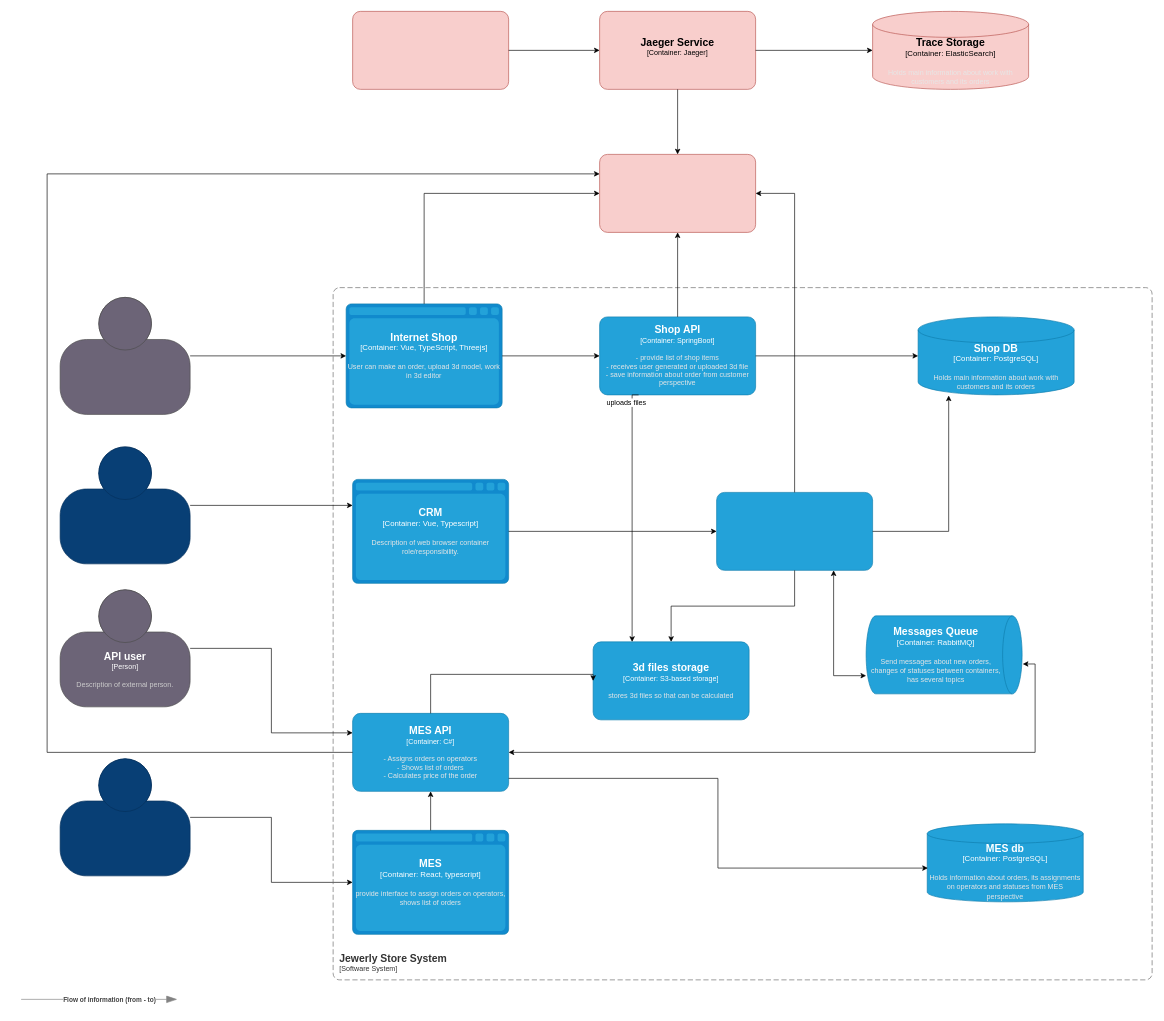
Image size: 1164x1021. Some labels were removed from this diagram. Each missing label, with the centre of its shape:
CRM API [Container: SpringBoot] Description of container role/responsibility.: the point at 794,531
Customer [Person] Description of external person.: the point at 124,355
Jaeger Collector [Container: Jaeger]: the point at 677,193
Jaeger UI [Container: Jaeger]: the point at 430,50
Operator [Person] Takes order in work, manufactures jewerly: the point at 124,817
Seller [Person] Operates with order, confirms manufacturing for the user: the point at 124,505
